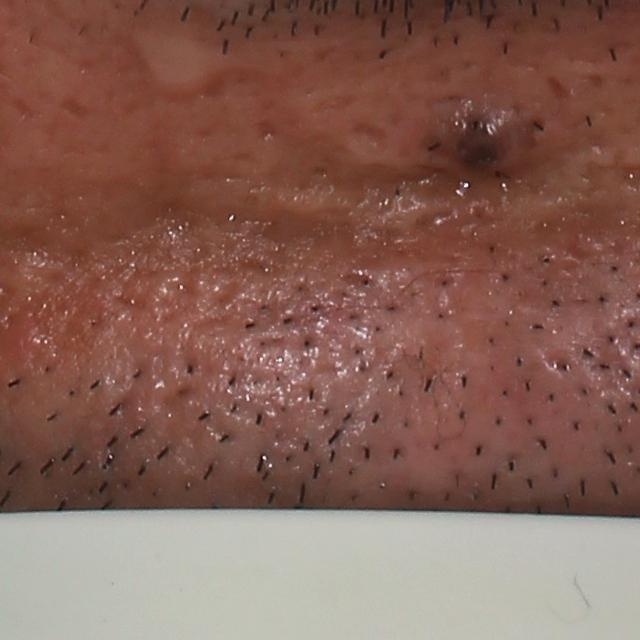atrophic_scar: (132, 200, 224, 267), (256, 135, 348, 202), (531, 205, 627, 265), (356, 160, 459, 214), (533, 341, 576, 378), (346, 120, 387, 153), (59, 94, 87, 121), (545, 74, 570, 102), (255, 118, 276, 143)
hypertrophic_scar: (179, 174, 383, 237), (358, 247, 459, 373), (129, 27, 238, 94)
nevus: (429, 89, 540, 181)
